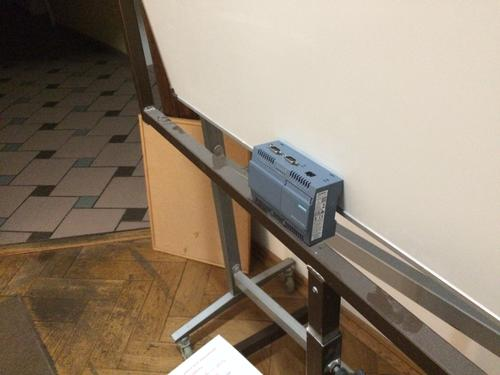iot2000: (248, 139, 345, 249)
